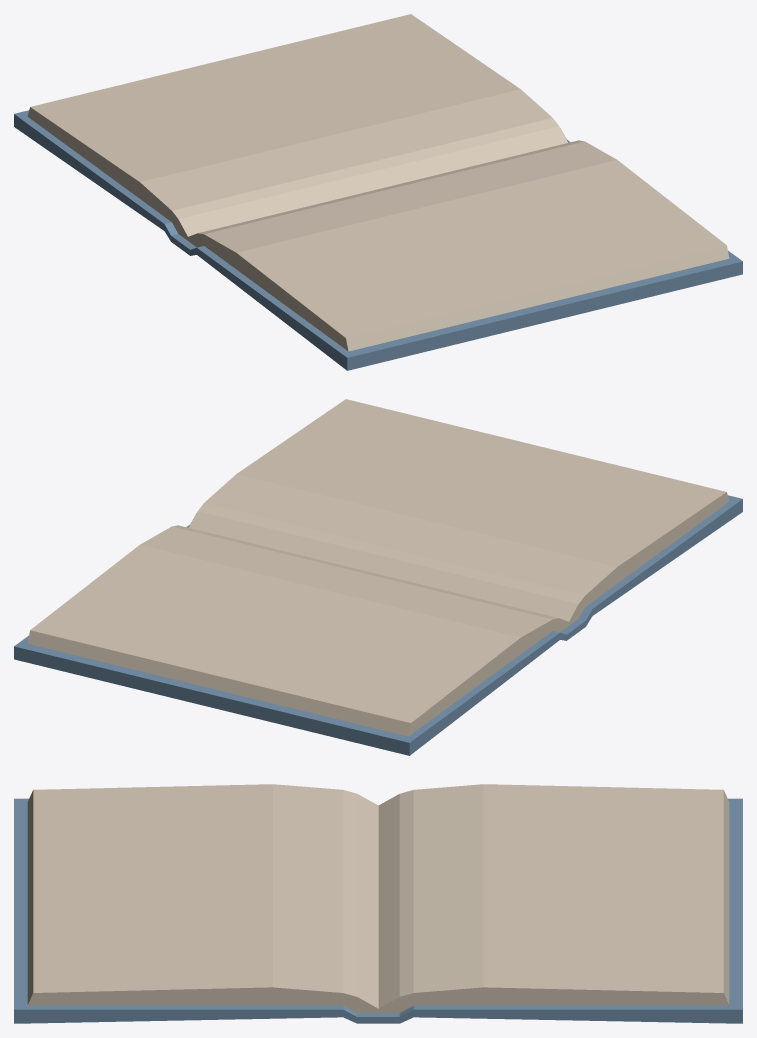
File: notebook_ud.fbx
The picture shows the model from 3 angles, top to bottom: view 1: azimuth 30°, elevation 25°; view 2: azimuth 150°, elevation 25°; view 3: azimuth 270°, elevation 25°; orthographic projection. The views are drawn at different scales.
Parts seen in each view (by area): view 1: Cube; view 2: Cube; view 3: Cube.
Part boxes in pixels (x1,y1,x2,y2): Cube: (14, 14, 742, 370); Cube: (14, 399, 742, 755); Cube: (14, 784, 742, 1023).
Bounding box in the file's own units: 88.98 × 6.39 × 130.
